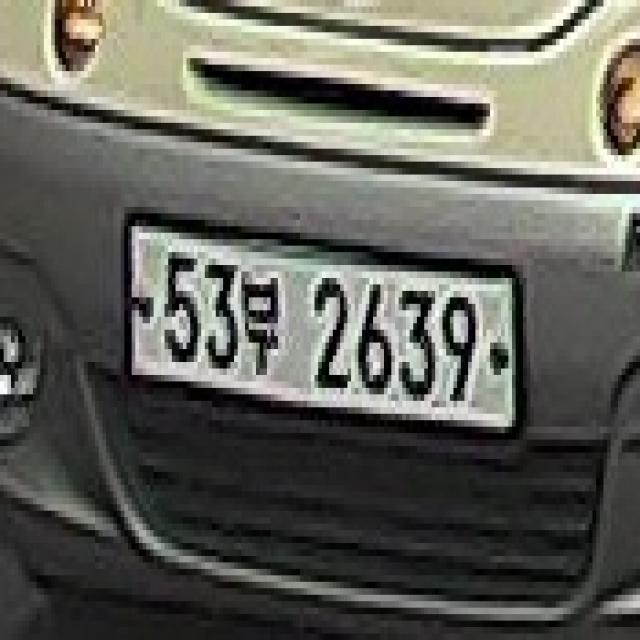2: (304, 265, 354, 401)
3: (395, 278, 442, 407), (201, 252, 245, 375)
5: (154, 232, 198, 368)
6: (358, 272, 395, 414)
9: (439, 291, 479, 420)
bu: (230, 252, 282, 369)
license_plate: (120, 207, 526, 465)
